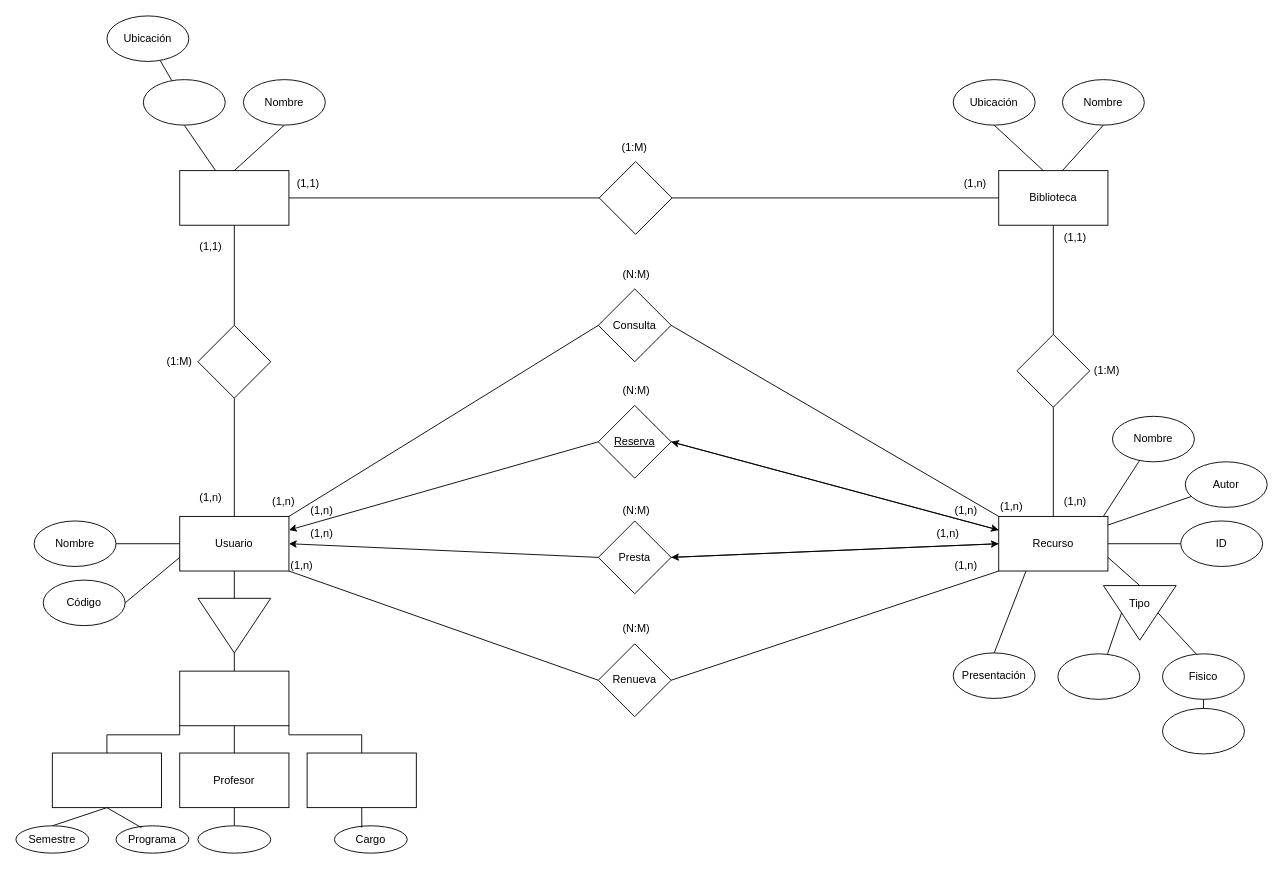
Image size: 1283x869. Some labels were removed from this diagram. Each missing label, with the box of its shape:
Administrativo: (306, 752, 416, 808)
Codigo de Biblioteca: (1162, 708, 1244, 754)
Digital: (1057, 653, 1140, 699)
Dispone: (1016, 334, 1090, 407)
ES: (197, 597, 271, 653)
Escuela: (197, 825, 271, 853)
Estudiante: (51, 752, 162, 808)
Pertenece: (197, 324, 271, 398)
Sede: (142, 79, 225, 125)
Tiene: (598, 161, 672, 234)
Tipo de Usuario: (179, 670, 289, 726)
Universidad: (179, 170, 289, 225)
